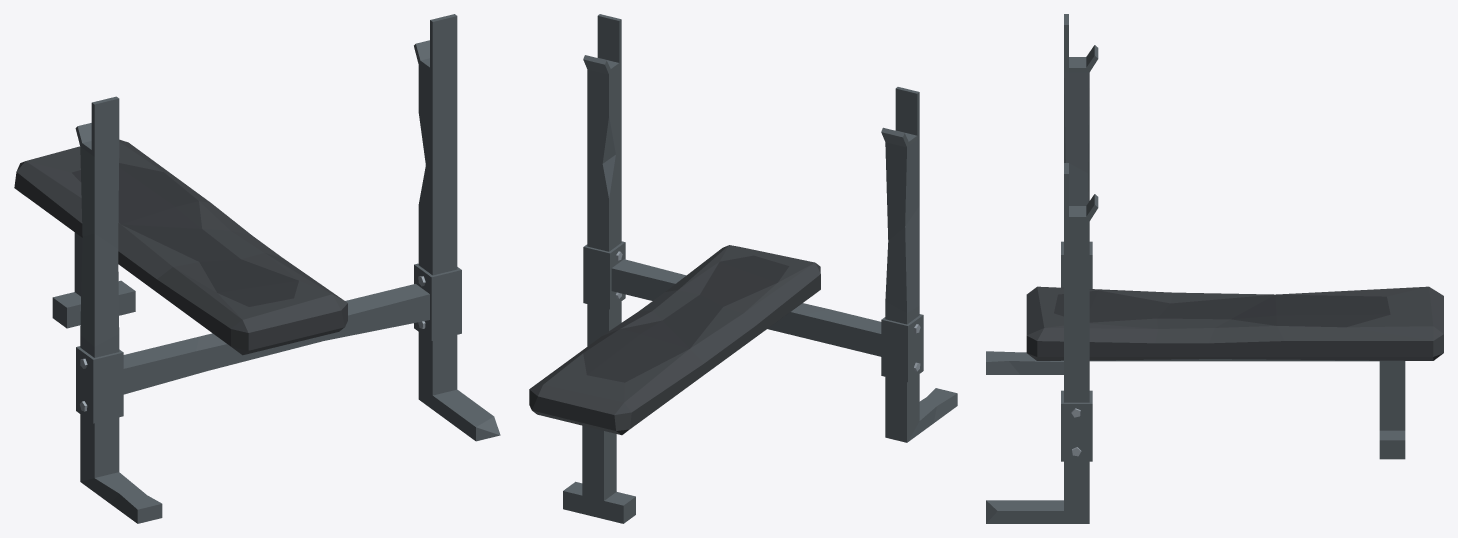
The model's file is SM_Prop_Bench_Press_01.fbx.
The picture shows the model from 3 angles, left to right: view 1: azimuth 30°, elevation 25°; view 2: azimuth 150°, elevation 25°; view 3: azimuth 270°, elevation 25°; orthographic projection. The views are drawn at different scales.
Visible parts, largest first — view 1: SM_Prop_Bench_Press_01; view 2: SM_Prop_Bench_Press_01; view 3: SM_Prop_Bench_Press_01.
Part boxes in pixels (left/top/right/bottom): SM_Prop_Bench_Press_01: left=14, top=14, right=500, bottom=523; SM_Prop_Bench_Press_01: left=529, top=14, right=957, bottom=523; SM_Prop_Bench_Press_01: left=986, top=14, right=1443, bottom=523.
Bounding box in the file's own units: 110 × 110 × 130.
